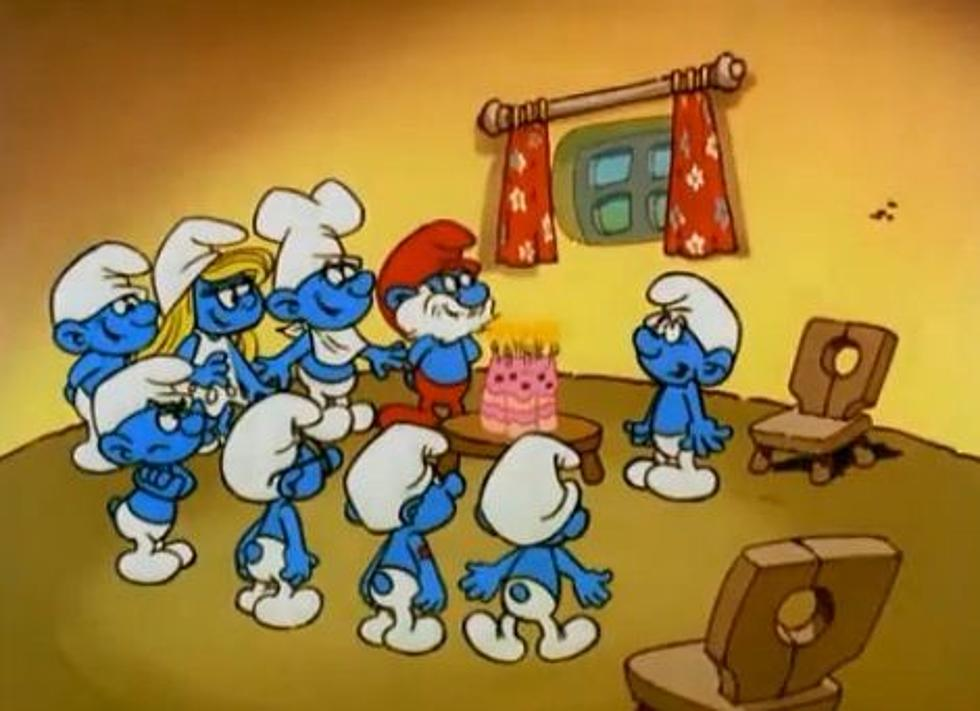smurf: (458, 432, 613, 668), (253, 179, 378, 446), (217, 391, 342, 631), (147, 216, 270, 454), (339, 420, 463, 655), (621, 270, 743, 506), (47, 231, 163, 474), (375, 218, 502, 432), (89, 356, 201, 587)
